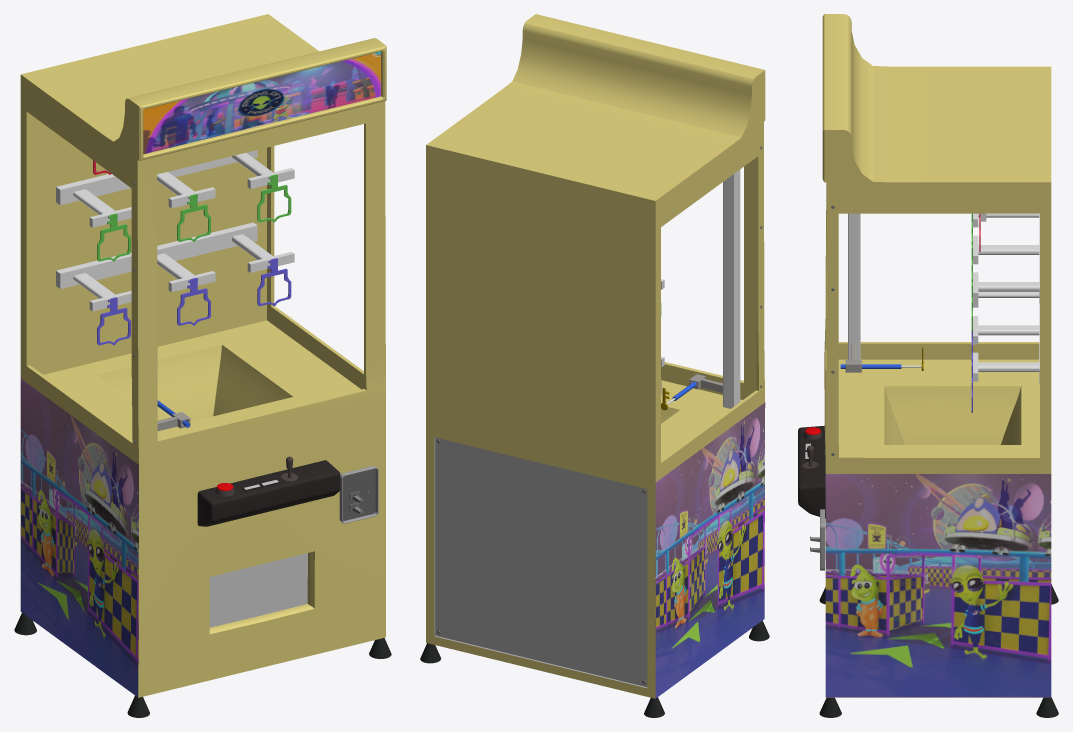
The model's file is keymaster1.fbx.
The picture shows the model from 3 angles, left to right: view 1: azimuth 30°, elevation 25°; view 2: azimuth 150°, elevation 25°; view 3: azimuth 270°, elevation 25°; orthographic projection. The views are drawn at different scales.
Visible parts, largest first — view 1: base, top, table, level 1, level 2, payment place, legs; view 2: base, top, rail, legs; view 3: base, top, table, rail, level 1, level 2, legs.
Boxes of the visible parts, x1,y1,x2,y2 form: base: [20, 94, 385, 697]; top: [20, 14, 386, 178]; table: [197, 460, 340, 526]; level 1: [56, 222, 272, 298]; level 2: [56, 150, 272, 214]; payment place: [339, 466, 378, 523]; legs: [14, 613, 391, 717]; base: [426, 139, 765, 698]; top: [426, 14, 765, 218]; rail: [723, 169, 740, 408]; legs: [420, 620, 769, 717]; base: [824, 182, 1051, 697]; top: [822, 14, 1051, 200]; table: [798, 425, 825, 518]; rail: [848, 213, 860, 359]; level 1: [978, 291, 1039, 383]; level 2: [978, 213, 1039, 303]; legs: [819, 584, 1058, 717].
Bounding box in the file's own units: 105 × 235 × 95.07.
